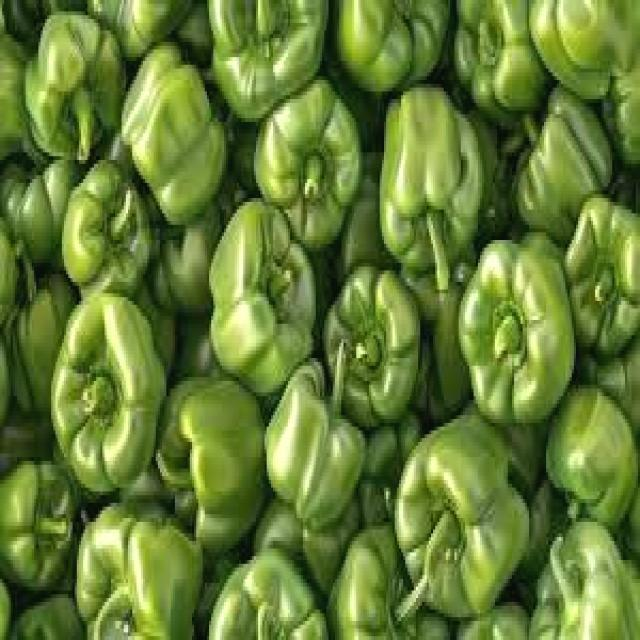Capsicum: (391, 410, 530, 621), (51, 296, 164, 506), (456, 239, 576, 425), (120, 44, 228, 222), (253, 80, 364, 248), (264, 358, 367, 533), (164, 379, 268, 551), (80, 500, 207, 640), (524, 510, 639, 640), (515, 92, 613, 240), (204, 555, 332, 640), (451, 112, 503, 245), (423, 282, 472, 422)
